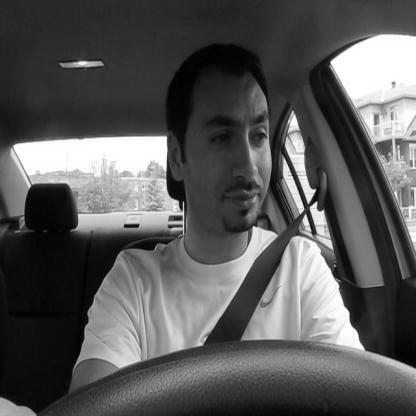seatbelt: (135, 23, 313, 347)
